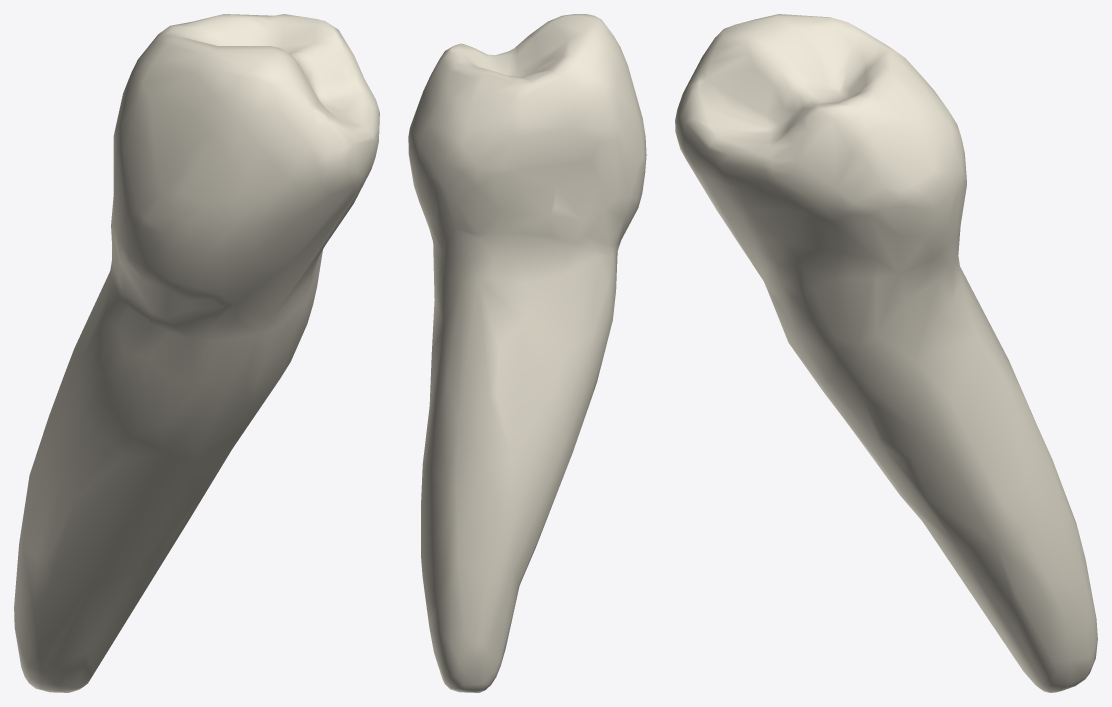
The picture shows the model from 3 angles, left to right: view 1: azimuth 30°, elevation 25°; view 2: azimuth 150°, elevation 25°; view 3: azimuth 270°, elevation 25°; orthographic projection. The views are drawn at different scales.
Parts seen in each view (by area): view 1: ZA_5c53fb653cfa313a; view 2: ZA_5c53fb653cfa313a; view 3: ZA_5c53fb653cfa313a.
Part boxes in pixels (x1,y1,x2,y2): ZA_5c53fb653cfa313a: (14, 14, 379, 692); ZA_5c53fb653cfa313a: (408, 14, 646, 692); ZA_5c53fb653cfa313a: (675, 14, 1097, 692).
Size of the model in its own units: 0.00795 by 0.0228 by 0.013.
